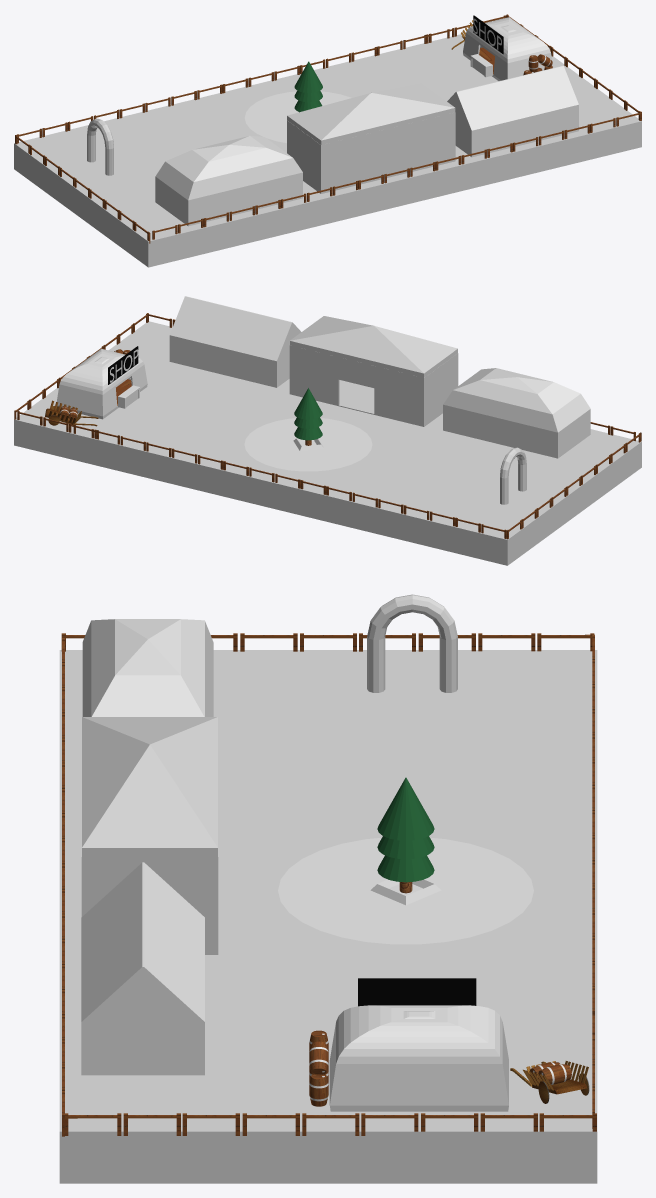
Rendered from Village.fbx.
3 renders of one model, top to bottom at view 1: azimuth 30°, elevation 25°; view 2: azimuth 150°, elevation 25°; view 3: azimuth 270°, elevation 25°, orthographic. The views are drawn at different scales.
Visible parts, largest first — view 1: Cube.001, Cube.004, house bottom left, House rigth, barierre.002, Cylinder.001, place central, Tree, Arche, Cube; view 2: Cube.001, Cube.004, house bottom left, House rigth, place central, Cylinder.001, barierre.002, Tree, Arche, Cube.016, Cube; view 3: Cube.001, Cube.004, House rigth, Cylinder.001, place central, house bottom left, barierre.002, Tree, Arche, Cube, Cube.016, Torus.
Part boxes in pixels (bbox=[...]): Cube.001: bbox=[14, 33, 641, 267]; Cube.004: bbox=[287, 83, 455, 193]; house bottom left: bbox=[155, 135, 302, 226]; House rigth: bbox=[447, 65, 578, 157]; barierre.002: bbox=[15, 14, 641, 243]; Cylinder.001: bbox=[463, 17, 553, 80]; place central: bbox=[245, 91, 351, 142]; Tree: bbox=[294, 61, 322, 112]; Arche: bbox=[87, 118, 113, 175]; Cube: bbox=[473, 15, 503, 54]; Cube.001: bbox=[14, 321, 641, 565]; Cube.004: bbox=[289, 316, 458, 426]; house bottom left: bbox=[443, 368, 590, 458]; House rigth: bbox=[169, 296, 301, 387]; place central: bbox=[244, 418, 372, 471]; Cylinder.001: bbox=[56, 348, 147, 419]; barierre.002: bbox=[14, 313, 641, 539]; Tree: bbox=[294, 388, 322, 445]; Arche: bbox=[500, 447, 526, 504]; Cube.016: bbox=[45, 400, 98, 426]; Cube: bbox=[108, 346, 138, 384]; Cube.001: bbox=[59, 650, 597, 1183]; Cube.004: bbox=[81, 717, 218, 954]; House rigth: bbox=[81, 862, 204, 1075]; Cylinder.001: bbox=[309, 1005, 508, 1111]; place central: bbox=[278, 837, 533, 944]; house bottom left: bbox=[82, 619, 213, 716]; barierre.002: bbox=[61, 633, 596, 1136]; Tree: bbox=[377, 777, 434, 893]; Arche: bbox=[367, 594, 457, 692]; Cube: bbox=[358, 978, 476, 1006]; Cube.016: bbox=[510, 1061, 589, 1103]; Torus: bbox=[370, 879, 441, 905].
Size of the model in its own units: 3986 by 758 by 1882.
